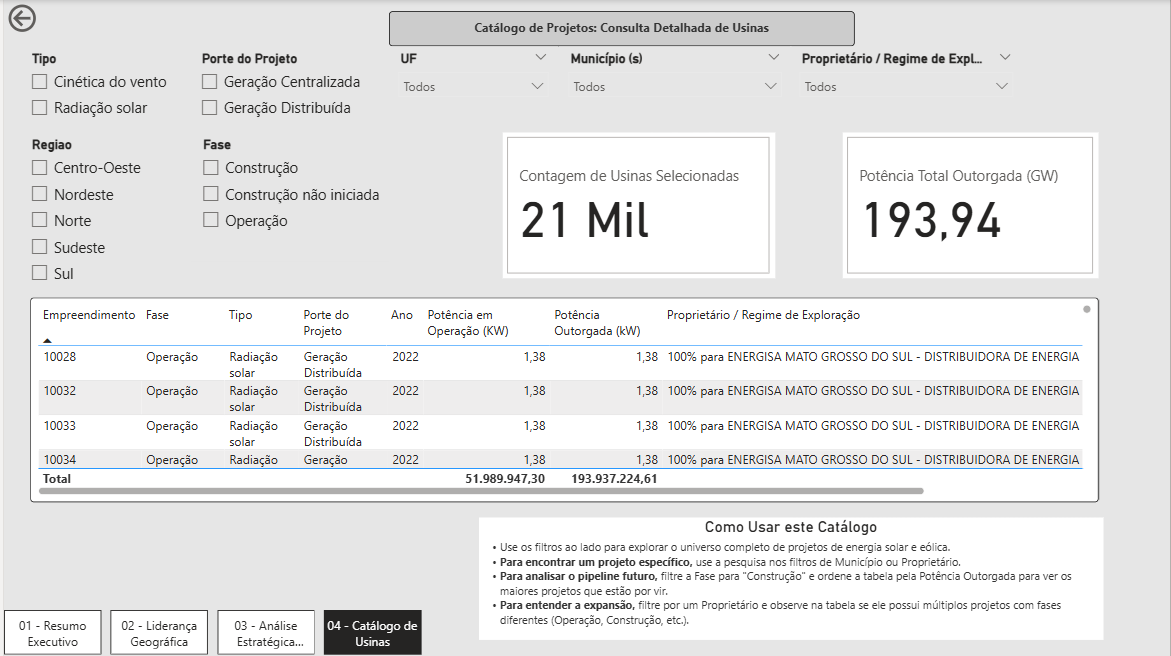

This screenshot's page, from the dashboard's own definition file:
{"tool":"powerbi","page":{"name":"04 - Catálogo de Usinas","canvas":[1280,720],"ordinal":3},"visuals":[{"type":"textbox","box":[422,12.7,511.3,38.2],"z":0},{"type":"slicer","fields":{"Values":["dLocalizacao.UF"]},"box":[422,51,185.5,94.9],"z":1000},{"type":"slicer","fields":{"Values":["dFonte.Tipo"]},"box":[18.4,51,185.5,106.2],"z":2000},{"type":"slicer","fields":{"Values":["dLocalizacao.Regiao"]},"box":[18.4,145.9,186.9,181.3],"z":3000},{"type":"slicer","fields":{"Values":["dTipoAtuacao.Porte do Projeto"]},"box":[203.9,51,218.1,94.9],"z":4000},{"type":"slicer","fields":{"Values":["fGeracao.Fase"]},"box":[205.4,145.9,216.7,141.6],"z":5000},{"type":"slicer","fields":{"Values":["fGeracao.Município (s)"]},"box":[609,51,254.9,94.9],"z":6000},{"type":"slicer","fields":{"Values":["fGeracao.Proprietário / Regime de Exploração"]},"box":[862.5,51,254.9,94.9],"z":7000},{"type":"cardVisual","fields":{"Data":["_Medidas.Contagem de Usinas Selecionadas"]},"box":[548.1,145.9,298.8,160],"z":8000},{"type":"cardVisual","fields":{"Data":["_Medidas.Potência Total Selecionada (GW)"]},"box":[920.6,145.9,280.4,160],"z":9000},{"type":"tableEx","fields":{"Values":["fGeracao.Empreendimento","fGeracao.Fase","dFonte.Tipo","dTipoAtuacao.Porte do Projeto","fGeracao.Entrada em Operação.Variation.Hierarquia de datas.Ano","_Medidas.Potência em Operação (KW)","_Medidas.Potência Outorgada (kW)","dUsina.Proprietário / Regime de Exploração","dUsina.Município (s)","dLocalizacao.UF"]},"box":[28.3,327.2,1172.7,225.2],"z":10000},{"type":"textbox","title":"Como Usar este Catálogo","box":[521.2,567.9,685.5,134.5],"z":11000},{"type":"actionButton","box":[0,0,100,40],"z":12000},{"type":"pageNavigator","box":[0,669.9,460.3,49.6],"z":13000}]}

Visuals, with their boxes on the page's 1280x720 design canvas (x1, y1, x2, y2). These are canvas units, not pixel positions in the 1171x656 screenshot, which may show the page scaled, cropped or inside an application window:
textbox: (x1=422, y1=13, x2=933, y2=51)
slicer - dLocalizacao.UF: (x1=422, y1=51, x2=608, y2=146)
slicer - dFonte.Tipo: (x1=18, y1=51, x2=204, y2=157)
slicer - dLocalizacao.Regiao: (x1=18, y1=146, x2=205, y2=327)
slicer - dTipoAtuacao.Porte do Projeto: (x1=204, y1=51, x2=422, y2=146)
slicer - fGeracao.Fase: (x1=205, y1=146, x2=422, y2=288)
slicer - fGeracao.Município (s): (x1=609, y1=51, x2=864, y2=146)
slicer - fGeracao.Proprietário / Regime de Exploração: (x1=862, y1=51, x2=1117, y2=146)
cardVisual - _Medidas.Contagem de Usinas Selecionadas: (x1=548, y1=146, x2=847, y2=306)
cardVisual - _Medidas.Potência Total Selecionada (GW): (x1=921, y1=146, x2=1201, y2=306)
tableEx - fGeracao.Empreendimento x fGeracao.Fase: (x1=28, y1=327, x2=1201, y2=552)
"Como Usar este Catálogo" textbox: (x1=521, y1=568, x2=1207, y2=702)
actionButton: (x1=0, y1=0, x2=100, y2=40)
pageNavigator: (x1=0, y1=670, x2=460, y2=720)
